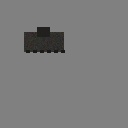armoured_vehicle: (24, 32, 64, 52)
